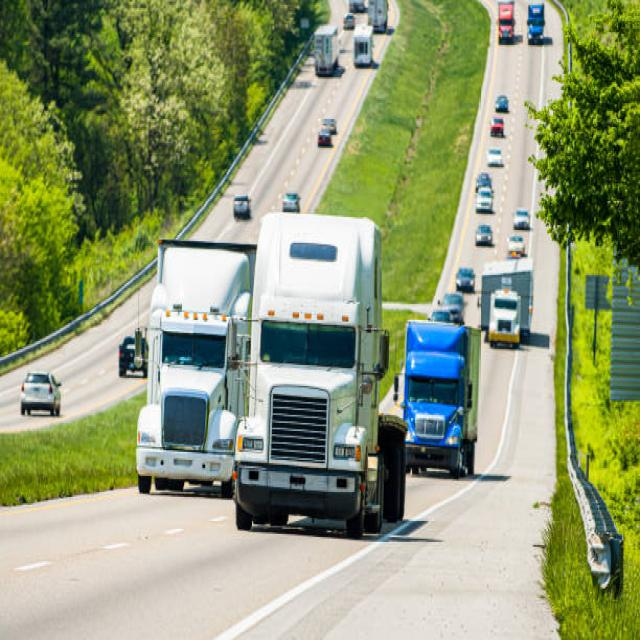Car: (20, 372, 61, 416), (455, 267, 475, 291), (507, 233, 525, 257), (233, 194, 250, 218), (281, 192, 300, 212), (474, 223, 492, 244), (474, 172, 492, 193), (512, 208, 530, 228), (486, 146, 503, 166), (489, 115, 504, 136), (317, 125, 331, 146), (321, 116, 337, 133), (494, 95, 508, 111), (343, 13, 355, 29)
Truck: (233, 209, 407, 536), (135, 237, 256, 496), (392, 318, 480, 478), (479, 256, 533, 339), (312, 23, 338, 76), (352, 22, 372, 66)
